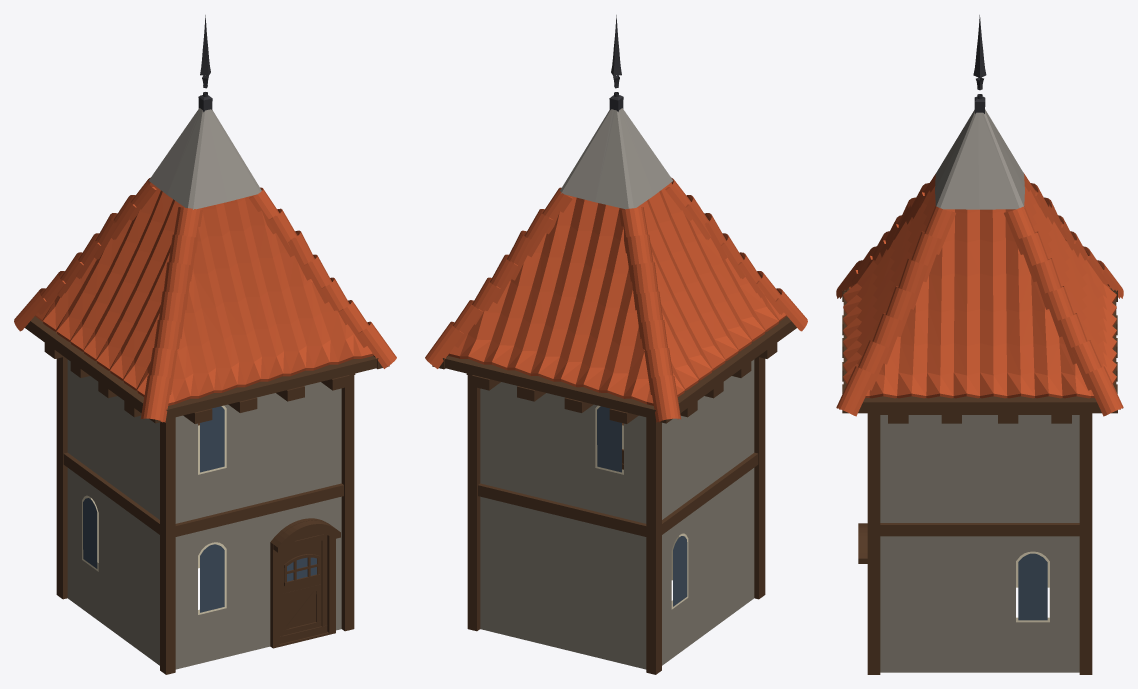
The model's file is turret.obj.
3 renders of one model, left to right at view 1: azimuth 30°, elevation 25°; view 2: azimuth 150°, elevation 25°; view 3: azimuth 270°, elevation 25°, orthographic. The views are drawn at different scales.
Bounding box in the file's own units: 5.65 × 12.8 × 5.43.
